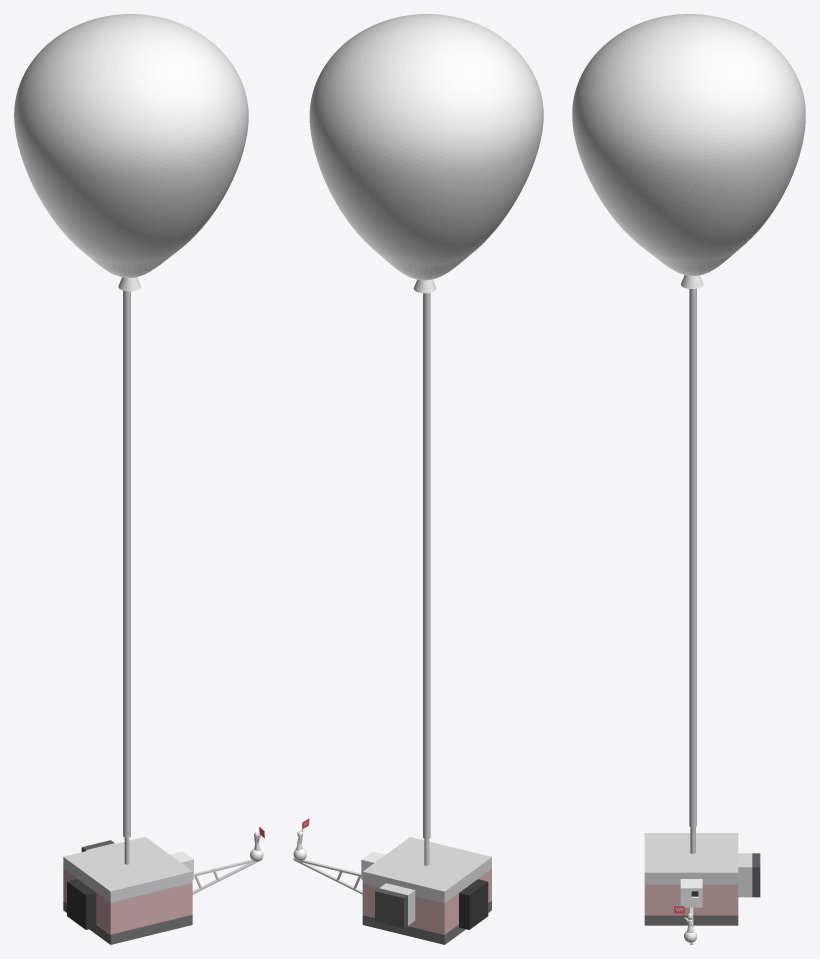
File: Globo.glb
The picture shows the model from 3 angles, left to right: view 1: azimuth 30°, elevation 25°; view 2: azimuth 150°, elevation 25°; view 3: azimuth 270°, elevation 25°; orthographic projection.
Parts seen in each view (by area): view 1: Mesh_Mesh_head_geo.001_lambert2SG.001, Mesh_Mesh_head_geo.001_lambert2SG.002, Cubo.002, Cilindro, Cubo.001, Cubo.010, Cubo; view 2: Mesh_Mesh_head_geo.001_lambert2SG.001, Cubo.002, Cilindro, Mesh_Mesh_head_geo.001_lambert2SG.002, Cubo.001, Cubo.009, Cubo.010, Cubo; view 3: Mesh_Mesh_head_geo.001_lambert2SG.001, Mesh_Mesh_head_geo.001_lambert2SG.002, Cubo.002, Cilindro, Cubo.001, Cubo.009, Cubo, Cubo.003.
Boxes of the visible parts, <box> form: Mesh_Mesh_head_geo.001_lambert2SG.001: <box>14,14,248,291</box>; Mesh_Mesh_head_geo.001_lambert2SG.002: <box>33,72,248,291</box>; Cubo.002: <box>63,837,192,902</box>; Cilindro: <box>123,290,130,837</box>; Cubo.001: <box>63,868,192,934</box>; Cubo.010: <box>67,879,96,929</box>; Cubo: <box>63,900,192,944</box>; Mesh_Mesh_head_geo.001_lambert2SG.001: <box>310,14,543,293</box>; Cubo.002: <box>362,837,491,903</box>; Cilindro: <box>423,293,430,839</box>; Mesh_Mesh_head_geo.001_lambert2SG.002: <box>309,95,542,290</box>; Cubo.001: <box>362,868,491,934</box>; Cubo.009: <box>375,883,415,928</box>; Cubo.010: <box>458,879,488,929</box>; Cubo: <box>362,900,491,944</box>; Mesh_Mesh_head_geo.001_lambert2SG.001: <box>572,14,805,288</box>; Mesh_Mesh_head_geo.001_lambert2SG.002: <box>574,80,793,288</box>; Cubo.002: <box>644,833,738,884</box>; Cilindro: <box>689,288,696,827</box>; Cubo.001: <box>644,884,738,915</box>; Cubo.009: <box>738,853,760,897</box>; Cubo: <box>644,915,738,925</box>; Cubo.003: <box>680,879,702,907</box>.
Size of the model in its own units: 5.67 by 20.73 by 4.99.
